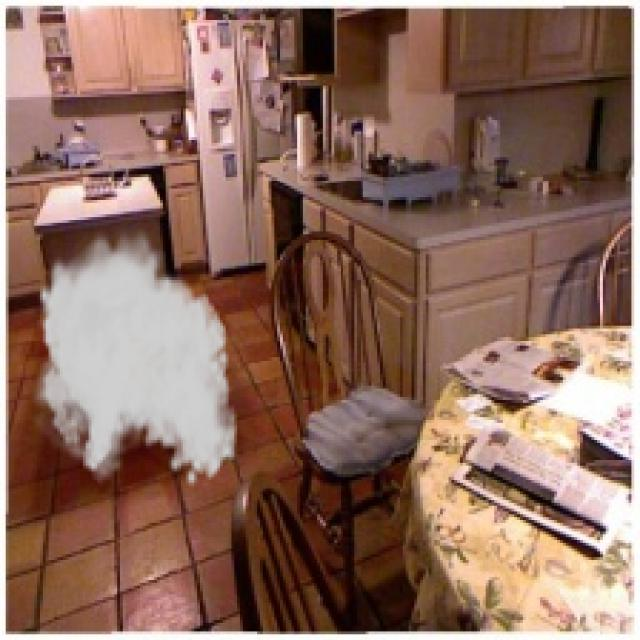smoke: (26, 223, 240, 488)
